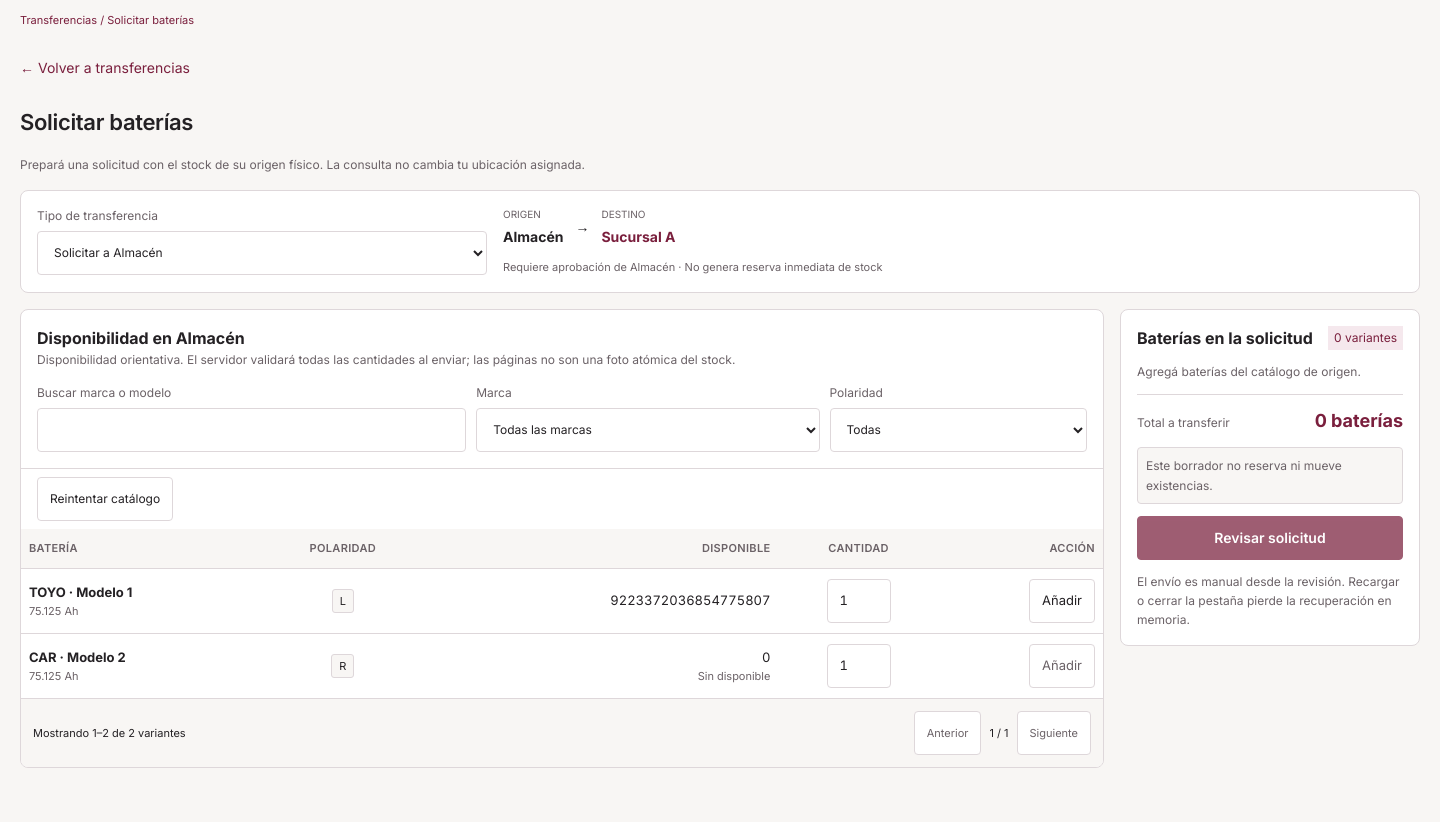
Test: R04b2b workspace › rejects noncanonical or overflowing quantity ١ with sanitized guidance
expect the button with aria-label "Añadir Modelo 1 L" is shown: met, box [1029, 579, 1095, 623]
Step 1. Replace the text in the field named "Cantidad Modelo 1 L" with "١" → (859, 601), box [827, 579, 891, 623]
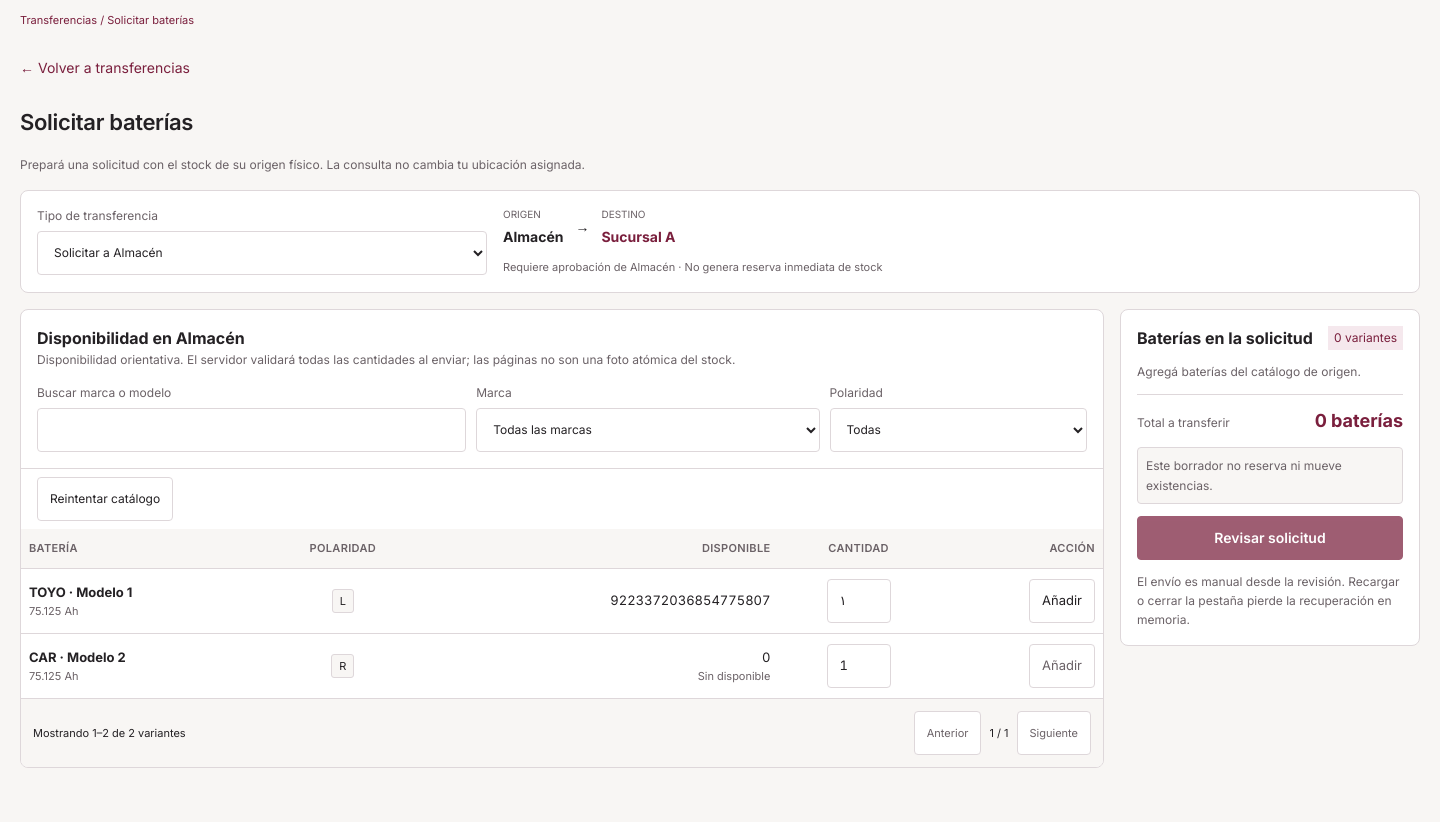
Step 2. Click the button with aria-label "Añadir Modelo 1 L" → (1062, 601), box [1029, 579, 1095, 623]
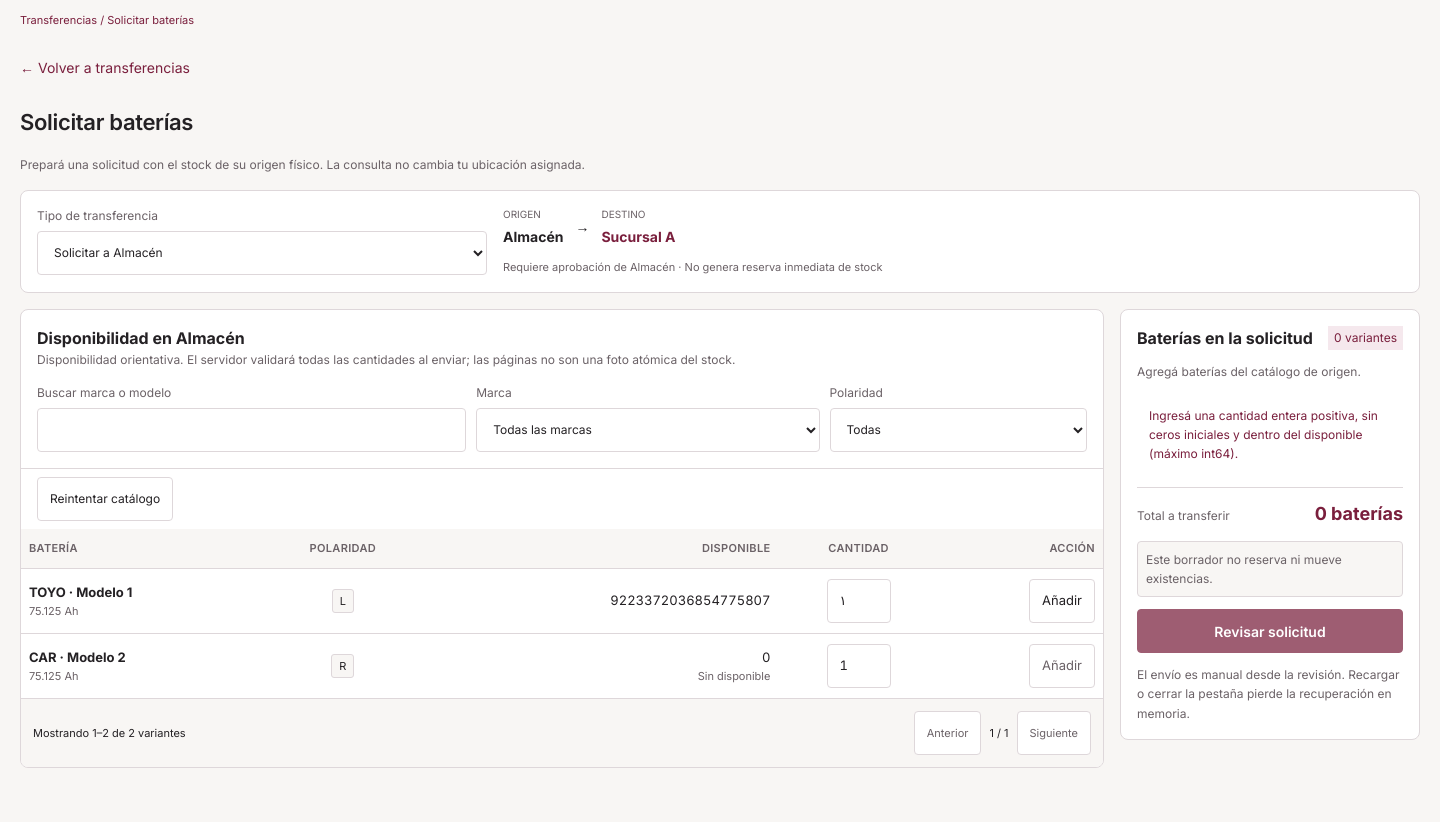
expect the message shows "Ingresá una cantidad entera positiva": met, box [1149, 408, 1378, 461]
